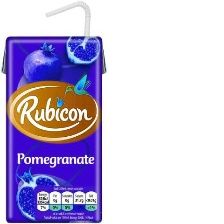carton: (0, 28, 126, 224)
drinking_straw: (41, 0, 100, 39)
